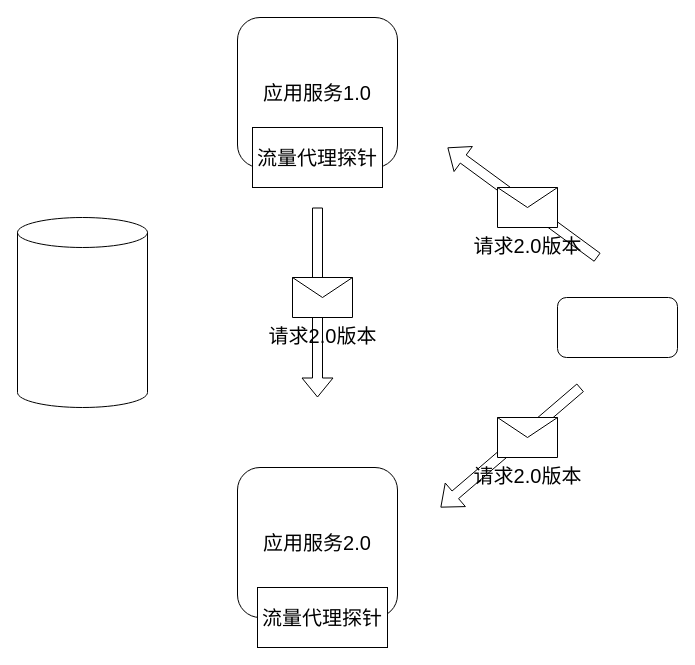
The diagram is 695 pixels wide and 665 high, and some of its shapes have lost their labels. Here are the shapes that lost their labels. From the top down, the box of each, then its label:
(16, 216, 148, 408): 注册中心
(556, 296, 678, 358): 网关
